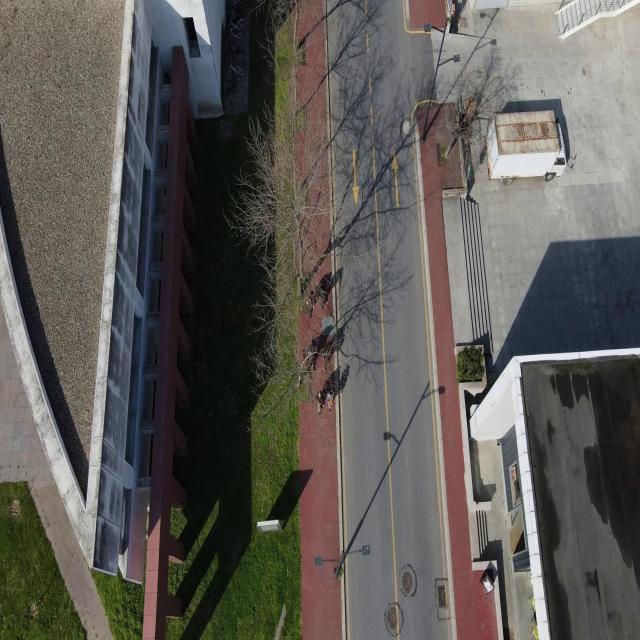p3rson: (304, 340, 319, 373), (315, 384, 324, 418), (326, 388, 334, 417), (307, 290, 314, 318), (320, 285, 327, 310)
